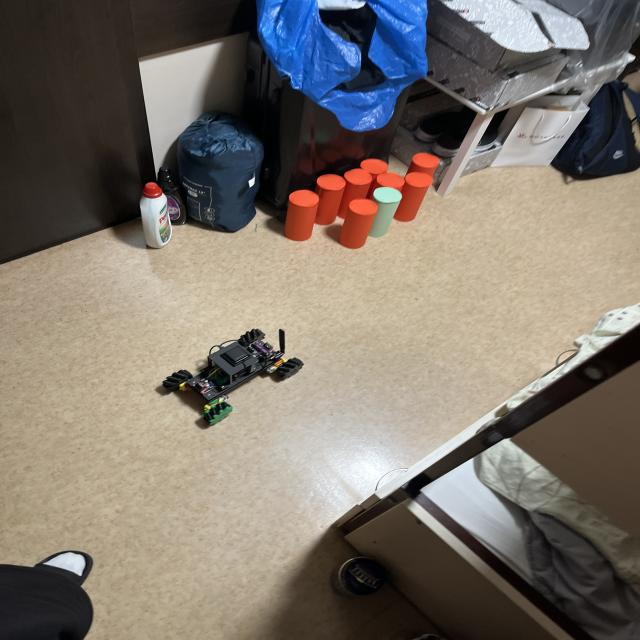robot: (163, 328, 304, 424)
